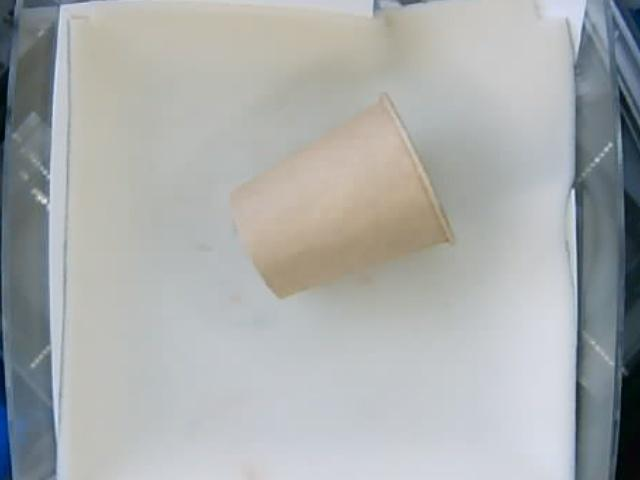Cup: (227, 94, 457, 295)
